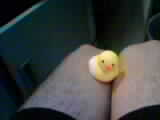duck: (85, 45, 119, 91)
